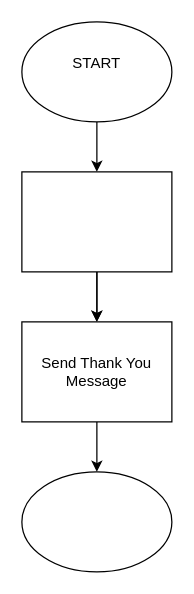
The diagram is 194 pixels wide and 594 high, and some of its shapes have lost their labels. Here are the shapes that lost their labels. From the top down, the box of each, then its label:
(21, 171, 172, 272): User Submits Form
(21, 471, 172, 572): END
